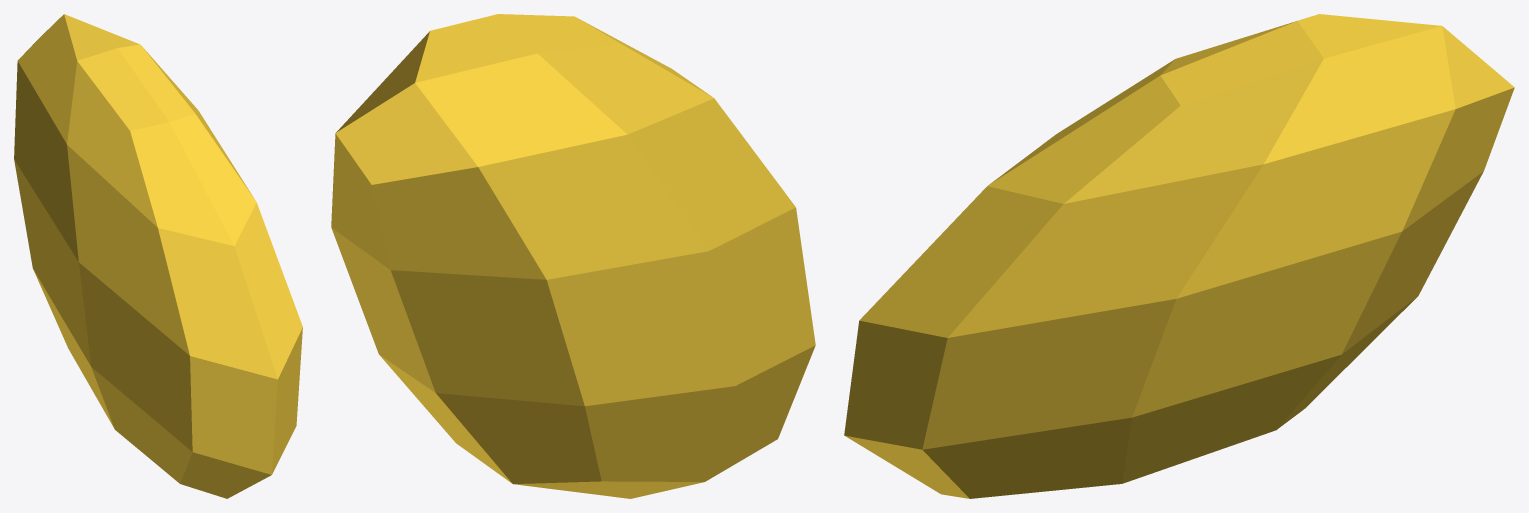
The model's file is millet.fbx.
3 views of the same model, side by side, from view 1: azimuth 30°, elevation 25°; view 2: azimuth 150°, elevation 25°; view 3: azimuth 270°, elevation 25° (orthographic). The views are drawn at different scales.
Parts seen in each view (by area): view 1: Cube; view 2: Cube; view 3: Cube.
Boxes of the visible parts, x1,y1,x2,y2 form: Cube: (14, 14, 302, 498); Cube: (331, 14, 815, 498); Cube: (844, 14, 1514, 498).
Size of the model in its own units: 70.14 by 137 by 171.
